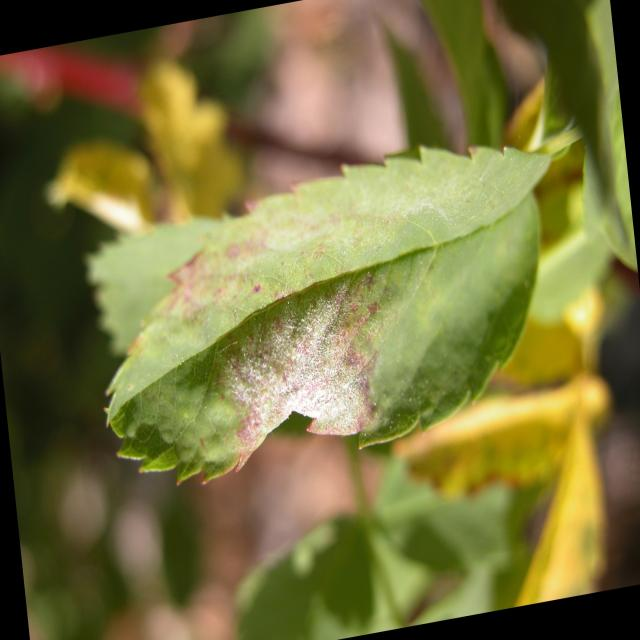Powdery Mildew: (225, 273, 382, 443)
